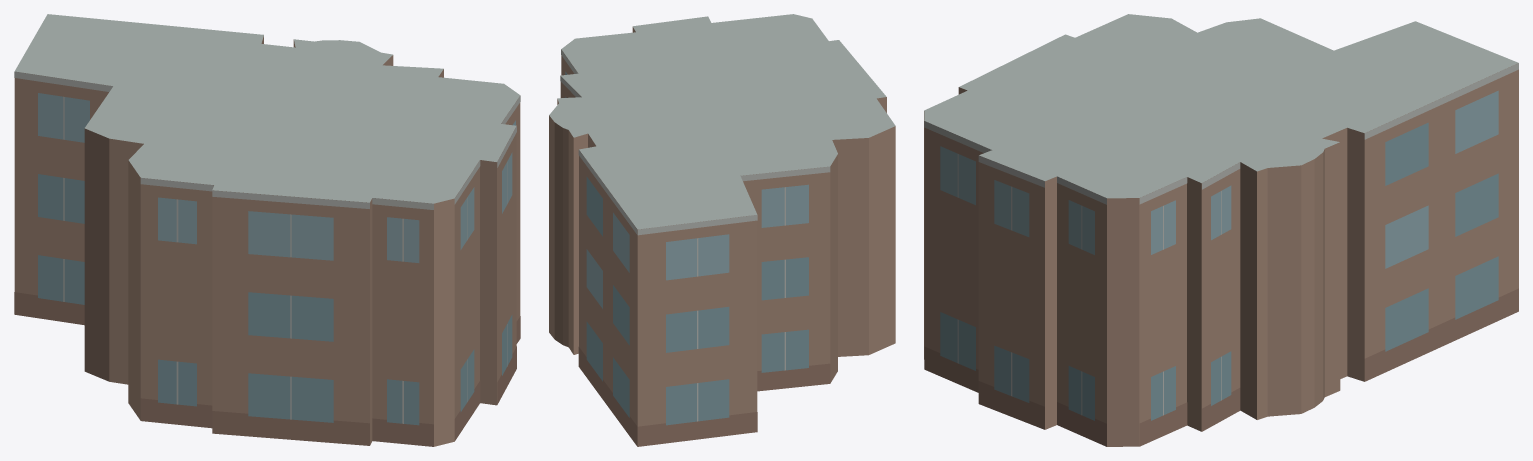
Rendered from survey-upis-32885754.glb.
3 views of the same model, side by side, from view 1: azimuth 30°, elevation 25°; view 2: azimuth 150°, elevation 25°; view 3: azimuth 270°, elevation 25° (orthographic). The views are drawn at different scales.
Visible parts, largest first — view 1: survey-upis-32885754.tmp; view 2: survey-upis-32885754.tmp; view 3: survey-upis-32885754.tmp.
Boxes of the visible parts, bbox=[...] form: survey-upis-32885754.tmp: bbox=[14, 14, 520, 446]; survey-upis-32885754.tmp: bbox=[549, 14, 895, 446]; survey-upis-32885754.tmp: bbox=[924, 14, 1518, 446].
Bounding box in the file's own units: 14.55 × 9.15 × 19.84.
